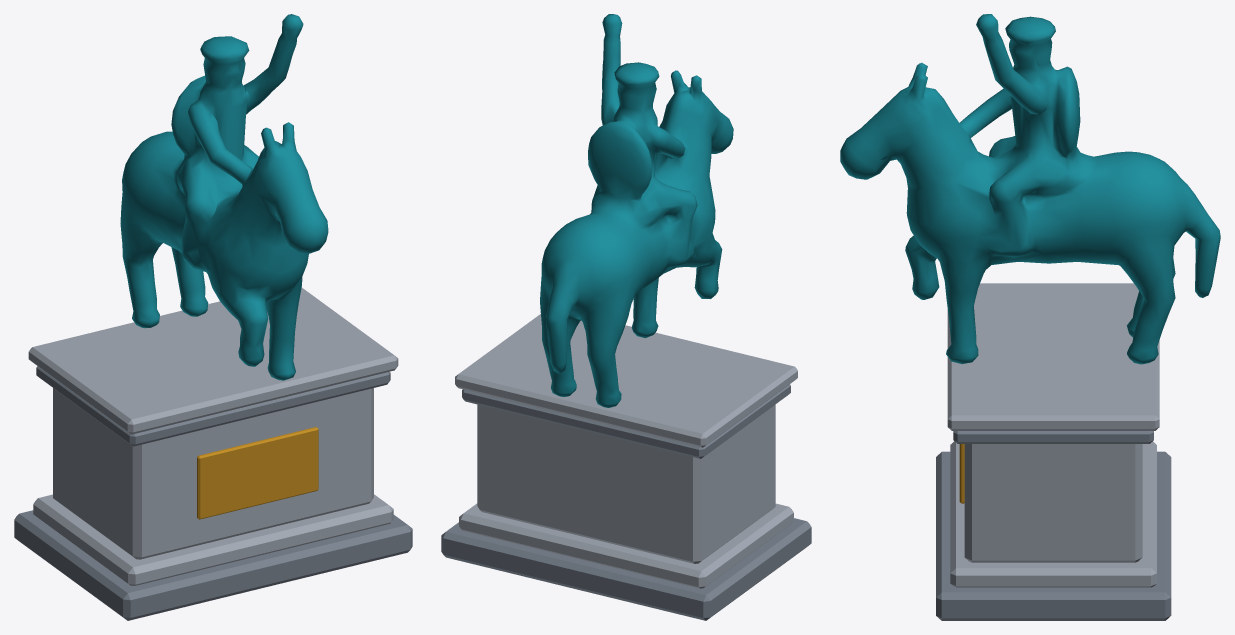
File: estatua_cavaleiro.glb
The picture shows the model from 3 angles, left to right: view 1: azimuth 30°, elevation 25°; view 2: azimuth 150°, elevation 25°; view 3: azimuth 270°, elevation 25°; orthographic projection. The views are drawn at different scales.
Parts seen in each view (by area): view 1: estatua_cavaleiro; view 2: estatua_cavaleiro; view 3: estatua_cavaleiro.
Boxes of the visible parts, x1=… form: estatua_cavaleiro: x1=14, y1=14, x2=412, y2=620; estatua_cavaleiro: x1=441, y1=14, x2=811, y2=620; estatua_cavaleiro: x1=840, y1=14, x2=1220, y2=620.
Size of the model in its own units: 2.4 by 4.3 by 2.65.
Materials: 1 (1 with a texture image).
